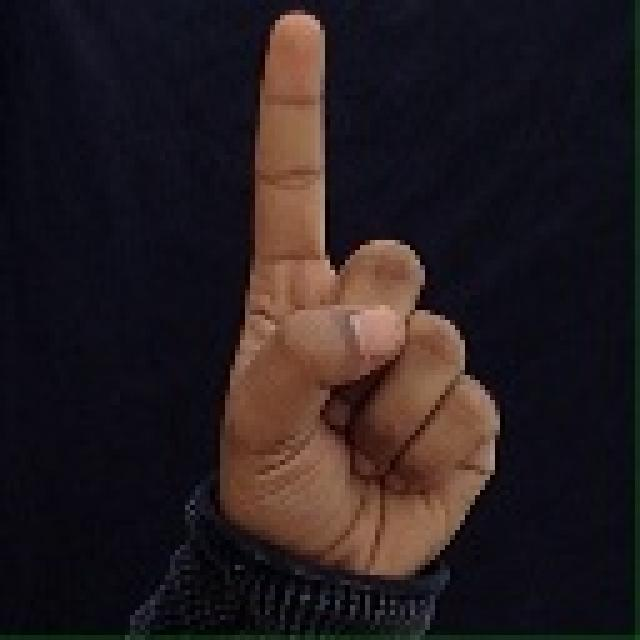Numeric-1: (209, 15, 492, 607)
